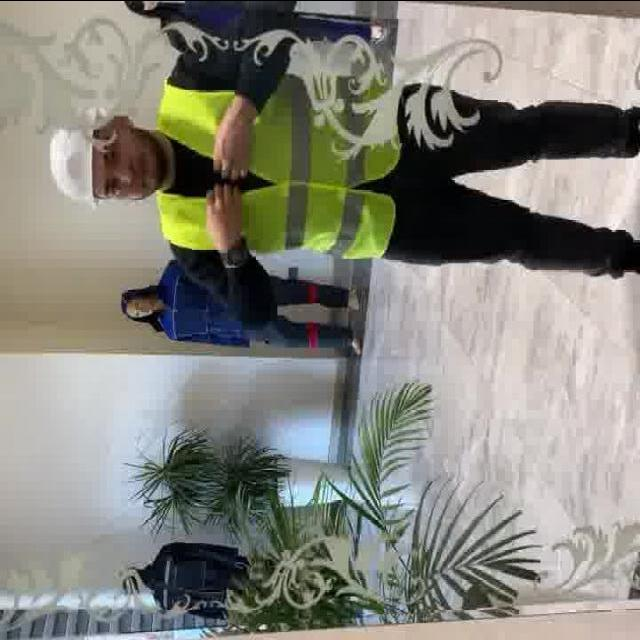helmet: (48, 106, 102, 204)
vest: (150, 75, 398, 262)
